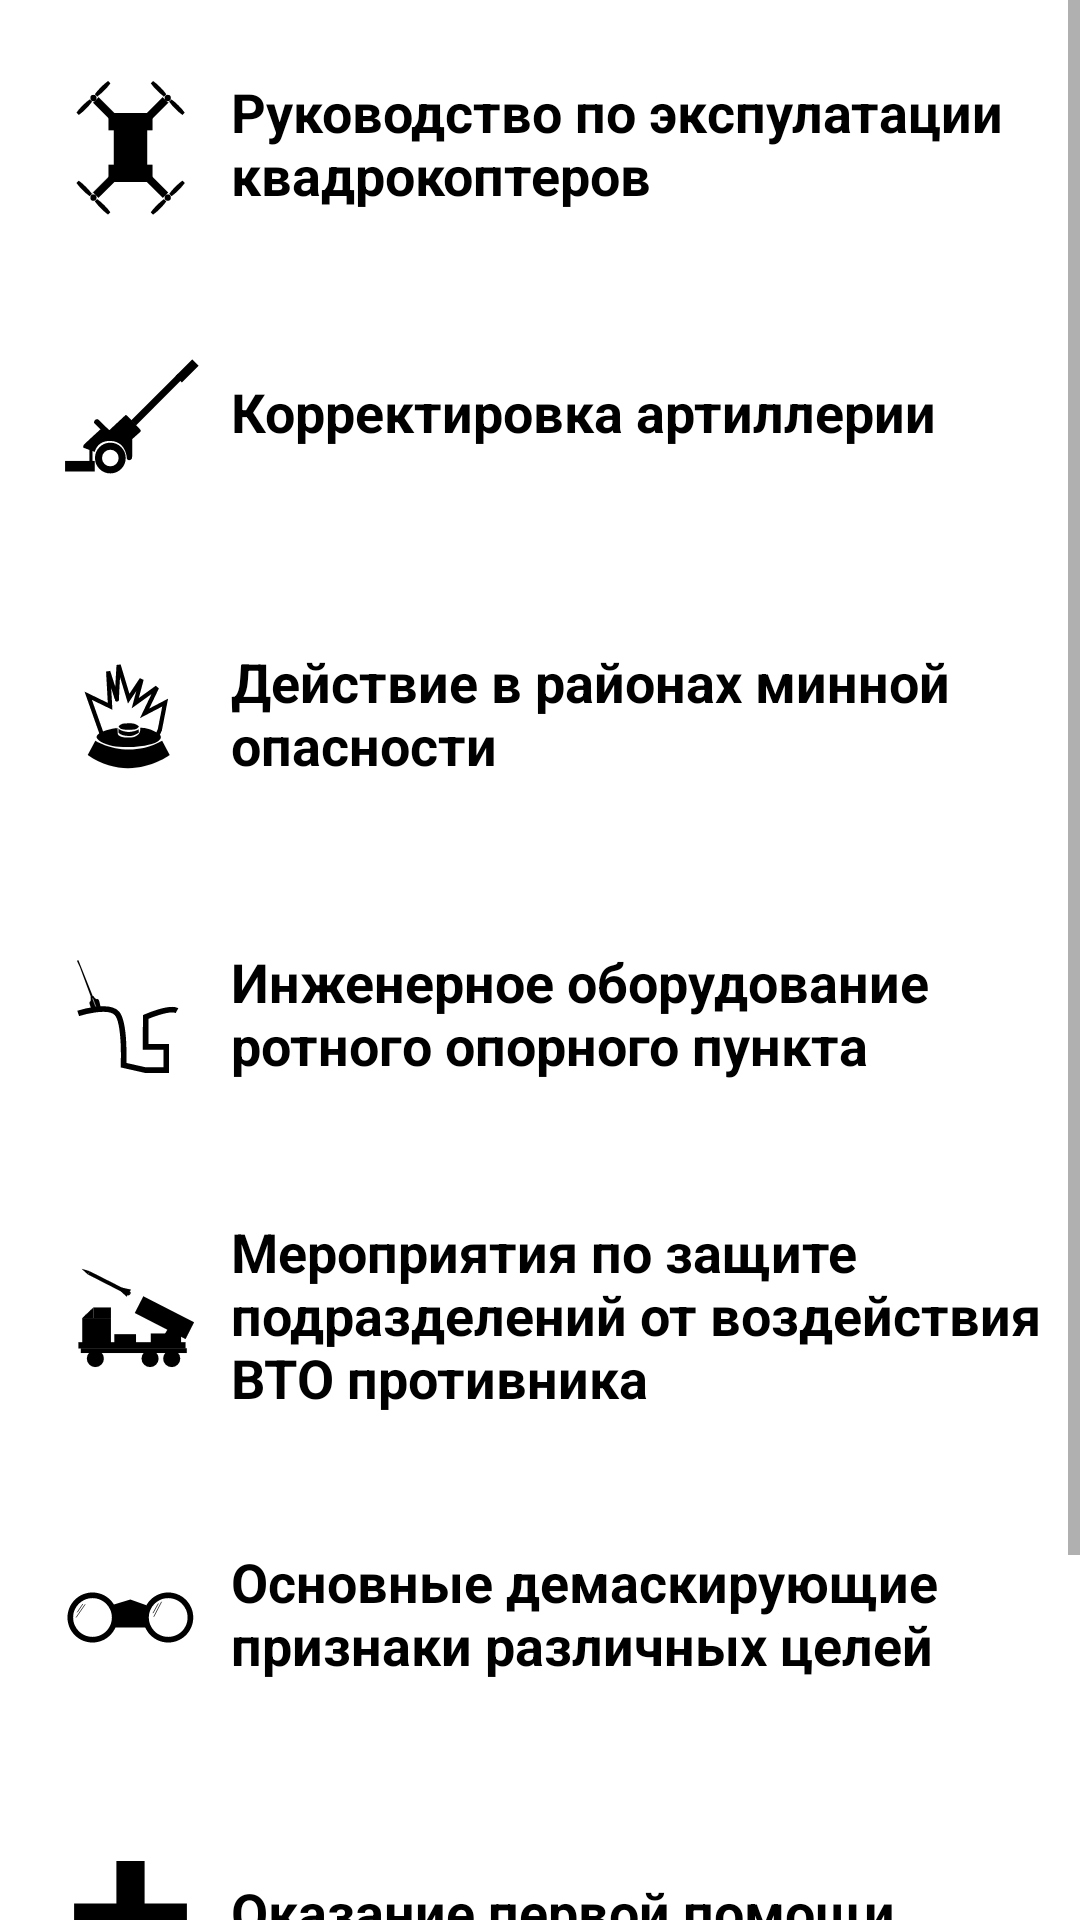

Locate icon controls on the screen. Image size 1080*1920, boxes as (x1, y1, x2, y2).
articon: (65, 359, 199, 474)
binocle: (67, 1592, 194, 1643)
himarsicon: (78, 1269, 194, 1367)
kvadicon: (76, 81, 185, 215)
mineicon: (84, 664, 170, 769)
okopicon: (77, 960, 179, 1073)
